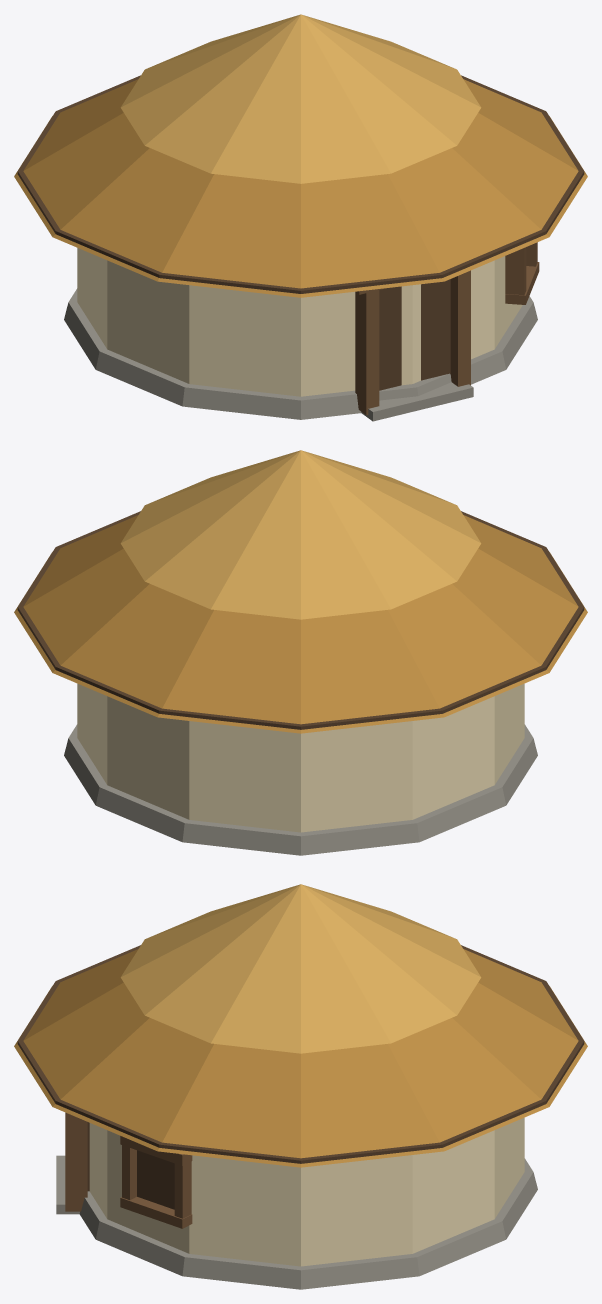
Rendered from hut-2.glb.
The picture shows the model from 3 angles, top to bottom: view 1: azimuth 30°, elevation 25°; view 2: azimuth 150°, elevation 25°; view 3: azimuth 270°, elevation 25°; orthographic projection.
Visible parts, largest first — view 1: hut-2; view 2: hut-2; view 3: hut-2.
Boxes of the visible parts, box(x1,y1,x2,y2) form: hut-2: box(14, 14, 587, 421); hut-2: box(14, 450, 587, 855); hut-2: box(14, 884, 587, 1289).
Size of the model in its own units: 7.7 by 4.52 by 7.7.
